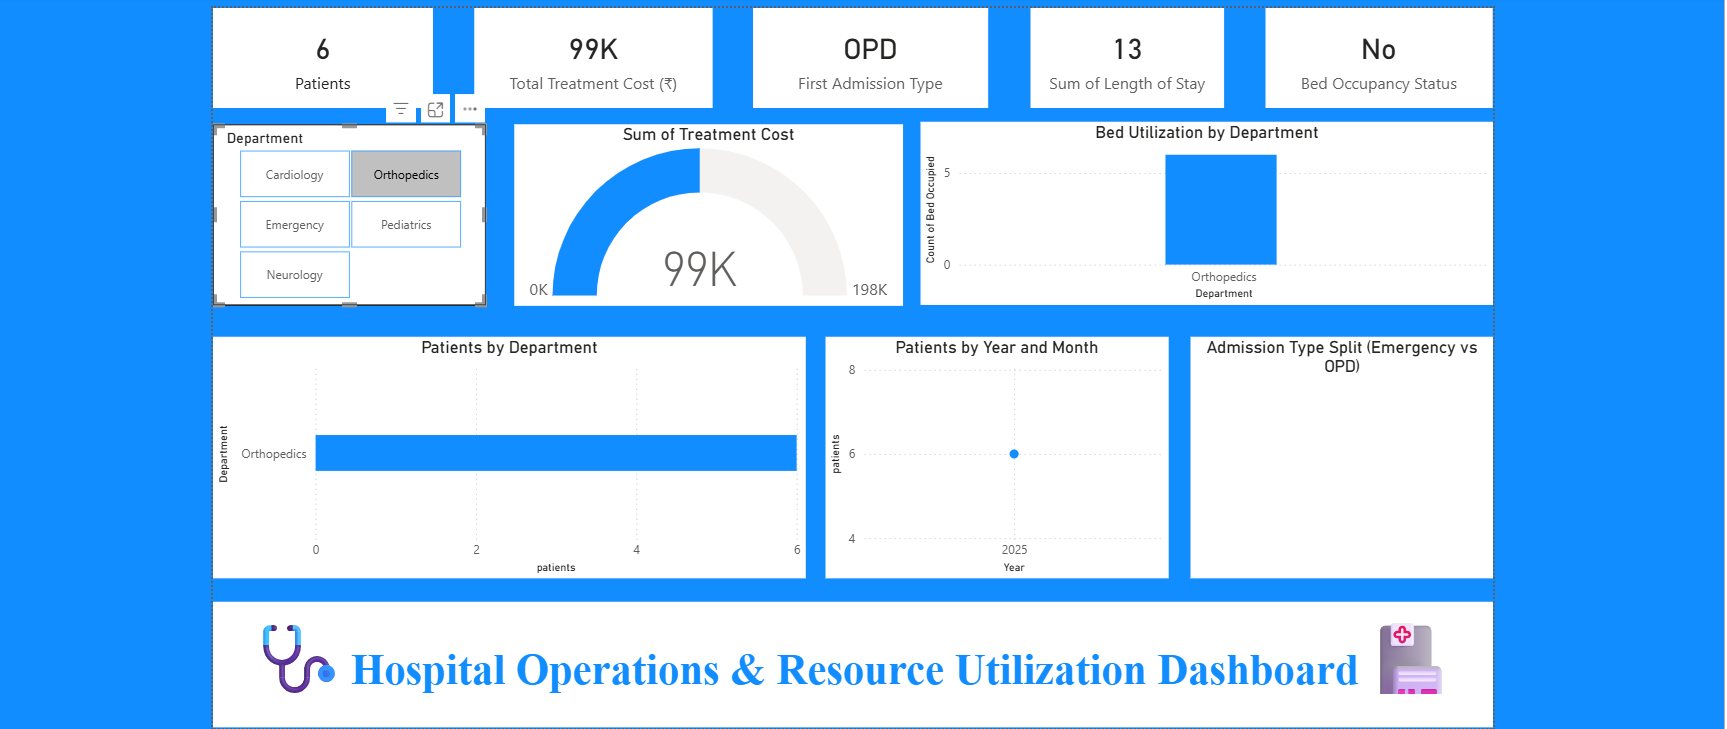

The page's visual inventory and layout, read from the dashboard file:
{"tool":"powerbi","page":{"name":"Page 1","canvas":[1280,720],"ordinal":0},"visuals":[{"type":"card","title":"Bed Occupancy Status","fields":{"Values":["Min(hospital_operations_data.Bed Occupied)"]},"box":[1052.9,0,227.1,100],"z":0},{"type":"card","fields":{"Values":["Sum(hospital_operations_data.Treatment Cost)"]},"box":[261.4,0,238.6,100],"z":1000},{"type":"card","fields":{"Values":["Sum(hospital_operations_data.Length of Stay)"]},"box":[817.5,0,193.8,100],"z":2000},{"type":"card","fields":{"Values":["hospital_operations_data.patients"]},"box":[0,0,220,100],"z":3000},{"type":"card","fields":{"Values":["Min(hospital_operations_data.Admission Type)"]},"box":[540,0,235,100],"z":4000},{"type":"lineChart","fields":{"Category":["hospital_operations_data.Admission Date.Variation.Date Hierarchy.Year","hospital_operations_data.Admission Date.Variation.Date Hierarchy.Month","hospital_operations_data.Admission Date.Variation.Date Hierarchy.Day"],"Y":["hospital_operations_data.patients"]},"box":[612.9,328.6,342.9,241.4],"z":5000},{"type":"pieChart","title":"Admission Type Split (Emergency vs OPD)","fields":{"Category":["hospital_operations_data.Admission Type"],"Y":["hospital_operations_data.Emergency Patients"]},"box":[977.1,328.6,302.9,241.4],"z":6000},{"type":"clusteredBarChart","fields":{"Y":["hospital_operations_data.patients"],"Category":["hospital_operations_data.Department"]},"box":[0,328.6,592.9,241.4],"z":7000},{"type":"clusteredColumnChart","title":"Bed Utilization by Department","fields":{"Category":["hospital_operations_data.Department"],"Y":["CountNonNull(hospital_operations_data.Bed Occupied)"]},"box":[707.1,114.3,572.9,182.9],"z":8000},{"type":"gauge","fields":{"Y":["Sum(hospital_operations_data.Treatment Cost)"]},"box":[301.4,115.7,388.6,181.4],"z":9000},{"type":"textbox","box":[0,594.3,1280,125.7],"z":10000},{"type":"slicer","fields":{"Values":["hospital_operations_data.Department"]},"box":[0,115.7,272.9,181.4],"z":11000}]}

Visuals, with their boxes in screenshot pixels (x1, y1, x2, y2):
"Bed Occupancy Status" card: 1258, 4, 1484, 104
card - Sum(hospital_operations_data.Treatment Cost): 468, 4, 706, 104
card - Sum(hospital_operations_data.Length of Stay): 1023, 4, 1216, 104
card - hospital_operations_data.patients: 207, 4, 426, 104
card - Min(hospital_operations_data.Admission Type): 746, 4, 980, 104
lineChart - hospital_operations_data.Admission Date.Variation.Date Hierarchy.Year x hospital_operations_data.Admission Date.Variation.Date Hierarchy.Month: 819, 332, 1161, 573
"Admission Type Split (Emergency vs OPD)" pieChart: 1182, 332, 1484, 573
clusteredBarChart - hospital_operations_data.patients x hospital_operations_data.Department: 207, 332, 799, 573
"Bed Utilization by Department" clusteredColumnChart: 913, 119, 1484, 301
gauge - Sum(hospital_operations_data.Treatment Cost): 508, 120, 895, 301
textbox: 207, 598, 1484, 723
slicer - hospital_operations_data.Department: 207, 120, 479, 301
